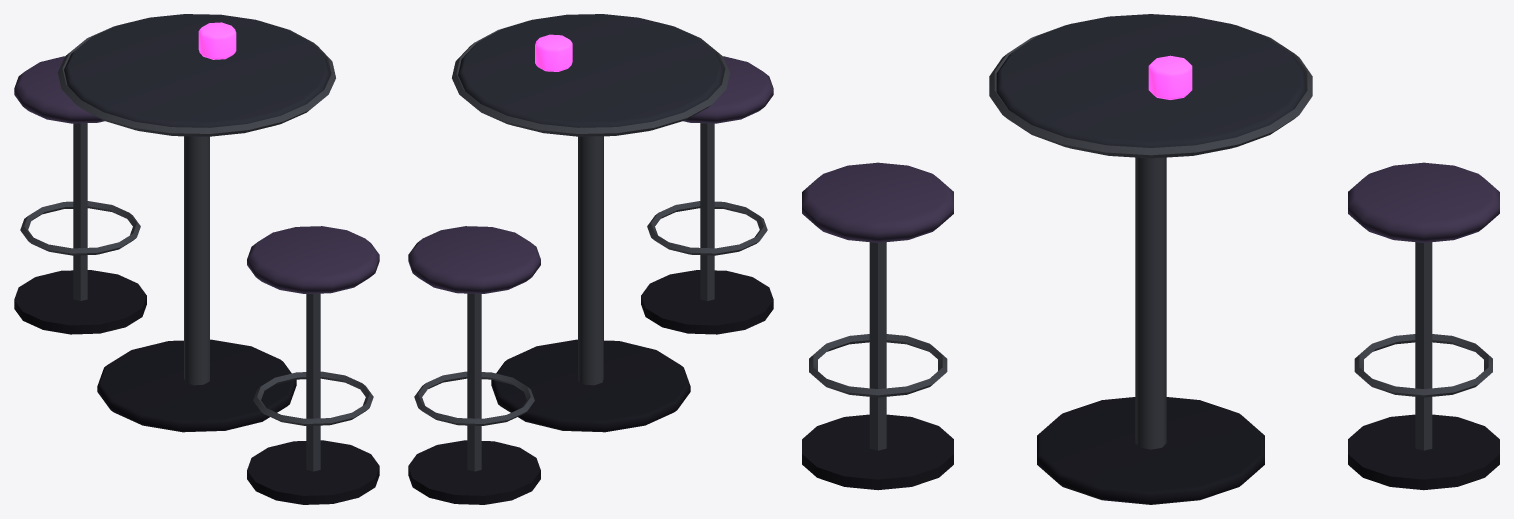
The model's file is bar_stool_table.glb.
3 renders of one model, left to right at view 1: azimuth 30°, elevation 25°; view 2: azimuth 150°, elevation 25°; view 3: azimuth 270°, elevation 25°, orthographic. The views are drawn at different scales.
Parts seen in each view (by area): view 1: bar_stool_table; view 2: bar_stool_table; view 3: bar_stool_table.
Boxes of the visible parts, <box> form: bar_stool_table: <box>14,14,379,504</box>; bar_stool_table: <box>408,14,773,504</box>; bar_stool_table: <box>802,14,1499,504</box>.
Bounding box in the file's own units: 0.838 × 1.16 × 1.79.
